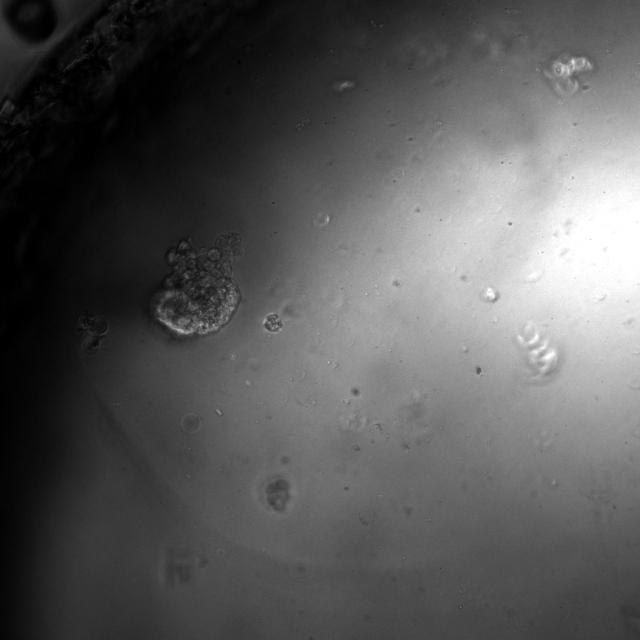organoid: (151, 233, 242, 336), (544, 54, 593, 96), (264, 477, 291, 512), (262, 313, 282, 333)
